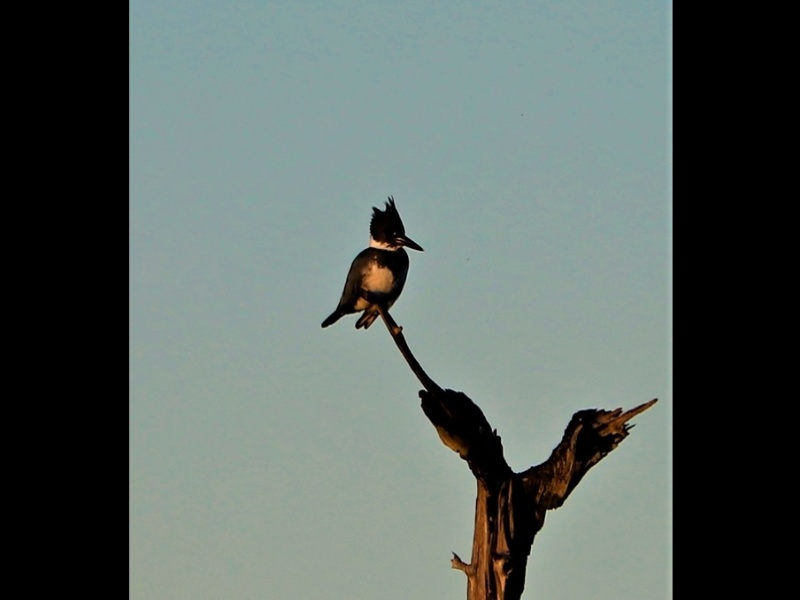kingfisher: (320, 192, 428, 332)
